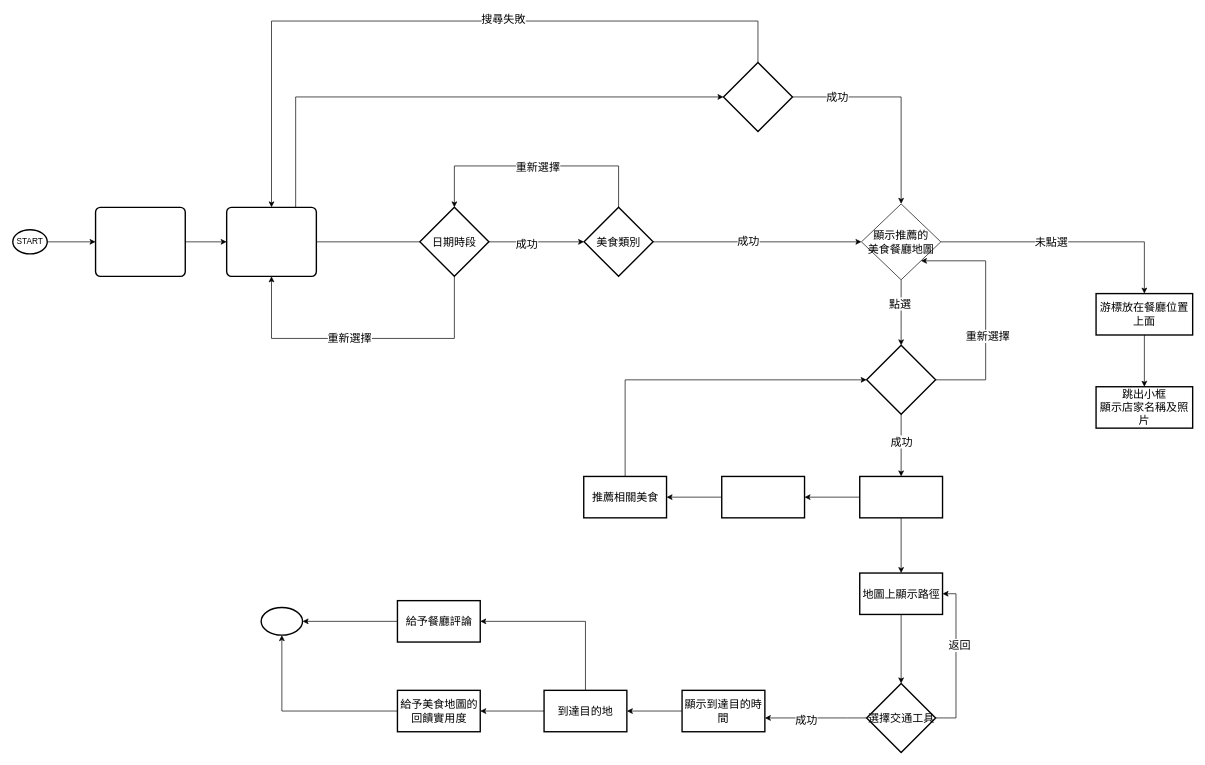
Some shapes in this 1205 by 765 pixel diagram are drawn without their labels. Each missing label, with the centre of its shape:
End: pixel 281 621
初始畫面 (手繪地圖): pixel 140 241
尋問美食需求 (跳出一位手繪人物): pixel 271 241
搜尋美食、 餐廳名稱: pixel 757 96
查看餐廳評論資訊: pixel 763 496
跳出店家資訊簡介: pixel 901 496
點選店家: pixel 901 379
